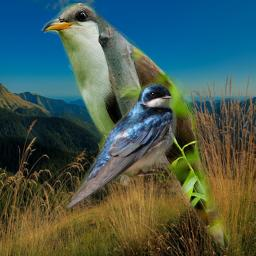Cuckoo: (36, 3, 242, 250)
Swallow: (65, 80, 178, 212)
